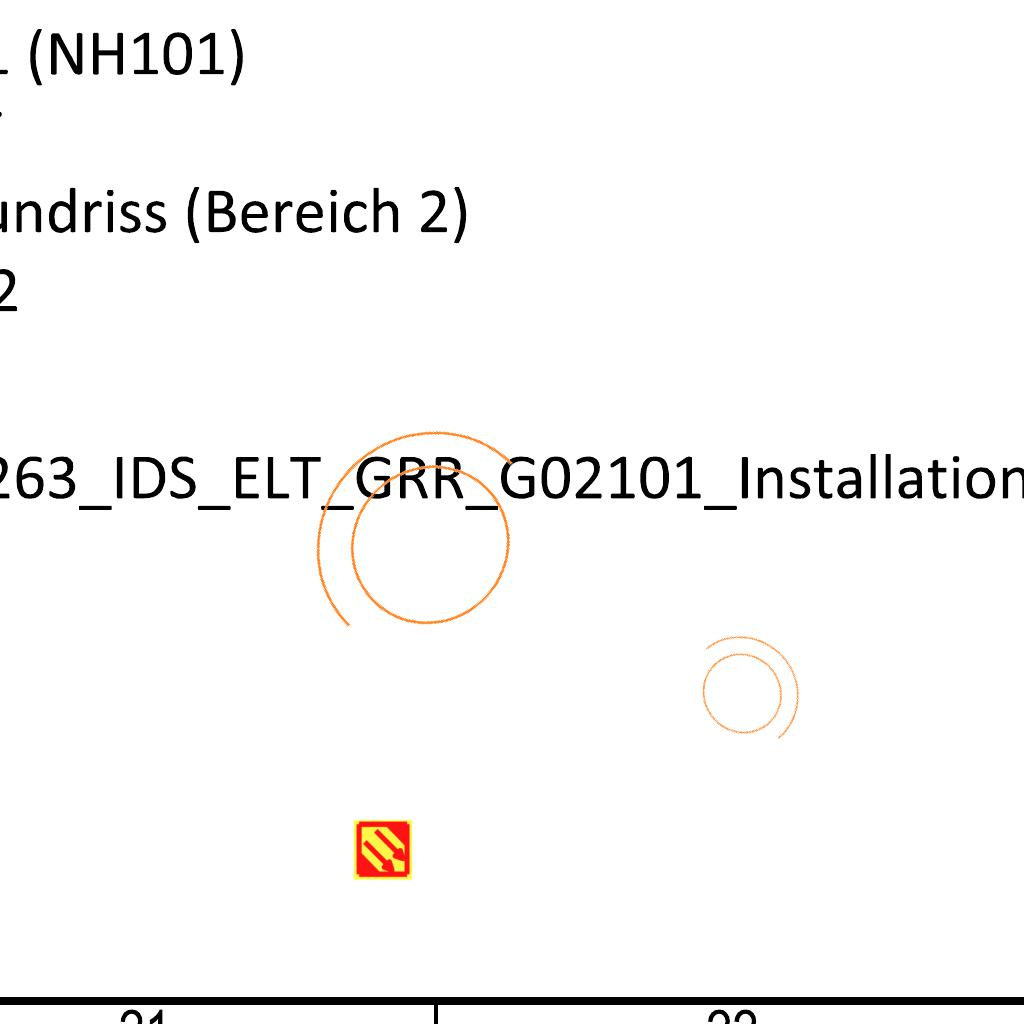ASR_Ansaugrauchmelder: (352, 819, 414, 881)
Scheinwerfer_fuer_Alarmbeleuchtung: (246, 369, 592, 716), (658, 601, 830, 775)
